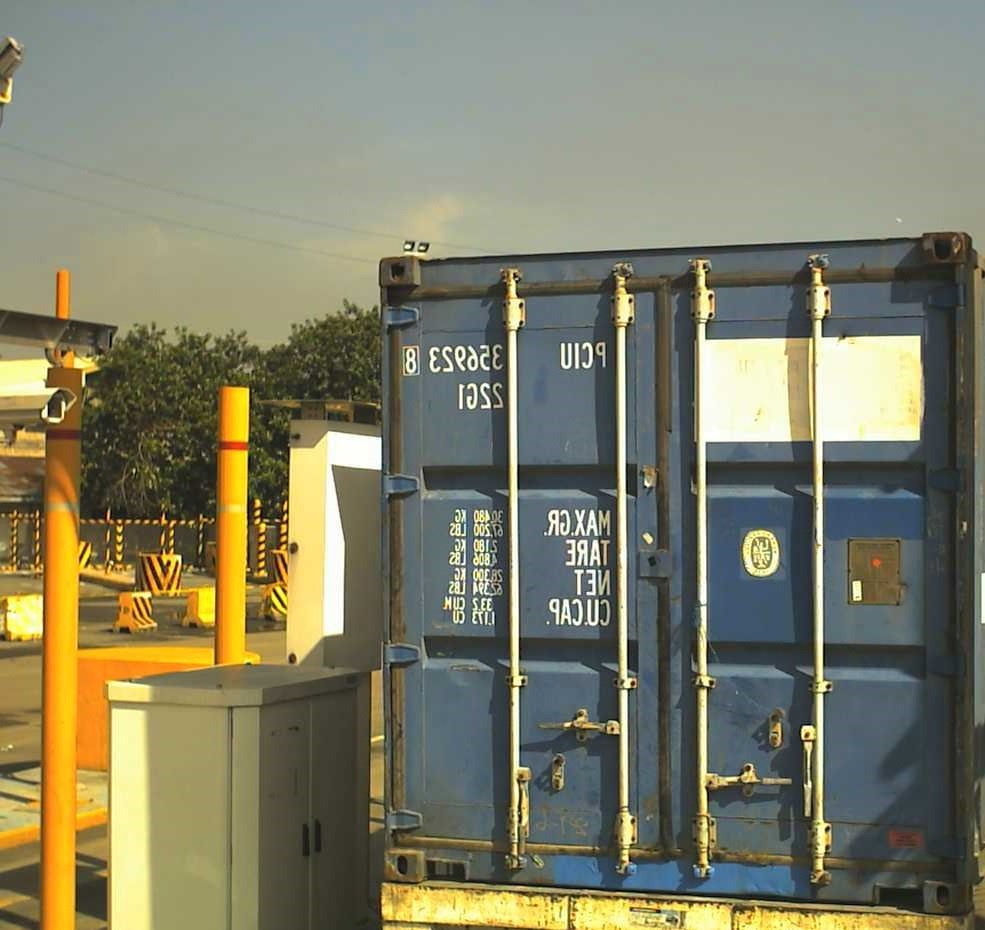container_door: (376, 226, 970, 912)
